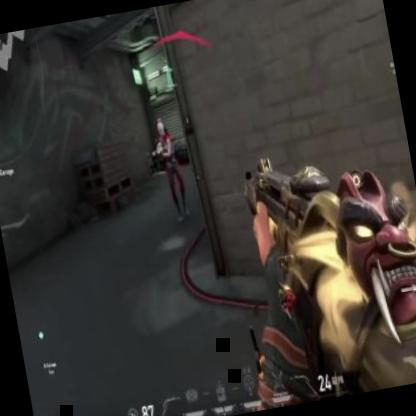enemy: (149, 112, 192, 224)
enemy_head: (154, 118, 166, 140)
